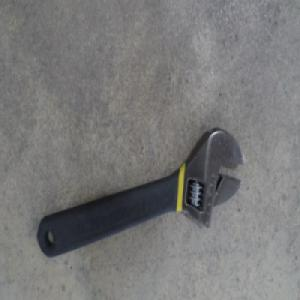AdjustableWrench: (35, 126, 244, 259)
